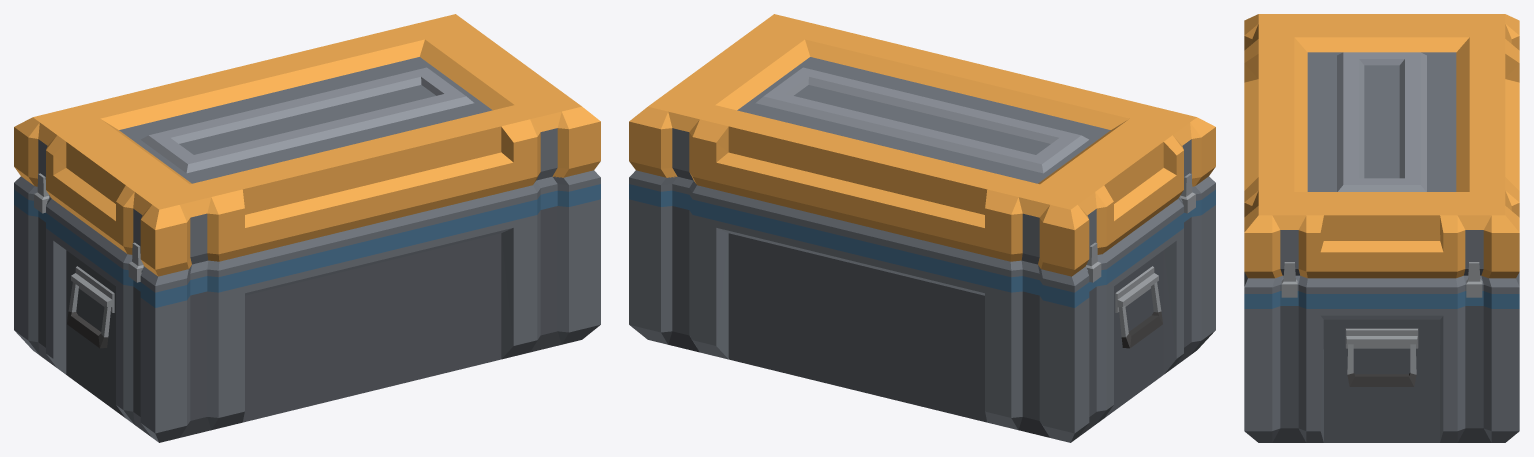
The model's file is FlightCaseWide.obj.
3 renders of one model, left to right at view 1: azimuth 30°, elevation 25°; view 2: azimuth 150°, elevation 25°; view 3: azimuth 270°, elevation 25°, orthographic. The views are drawn at different scales.
Bounding box in the file's own units: 1.21 × 0.6 × 0.6583.
Materials: 1 (1 with a texture image).
